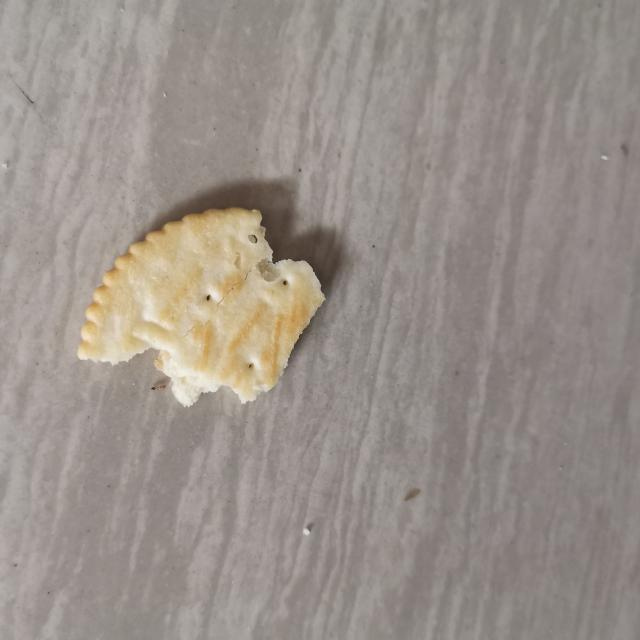Broken: (76, 205, 326, 408)
